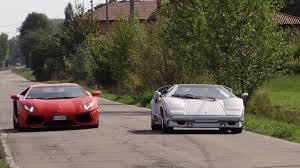Lamborghini: (151, 85, 248, 134), (14, 85, 103, 130)
